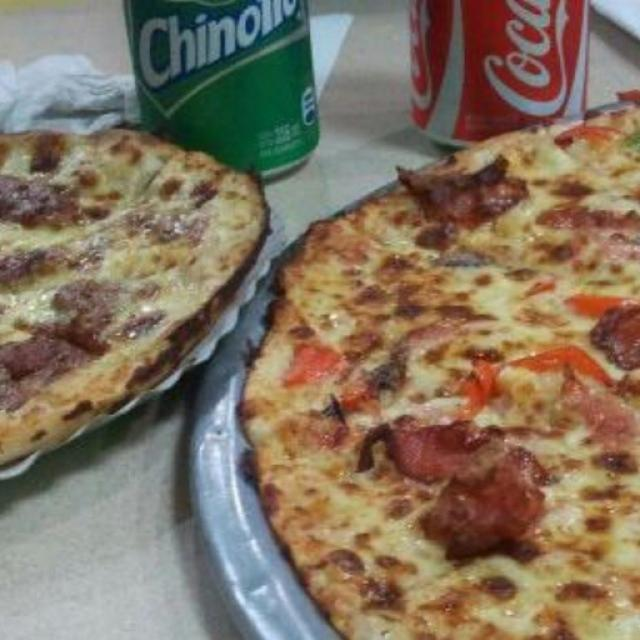Pizza: (232, 116, 633, 640), (0, 133, 264, 480)
